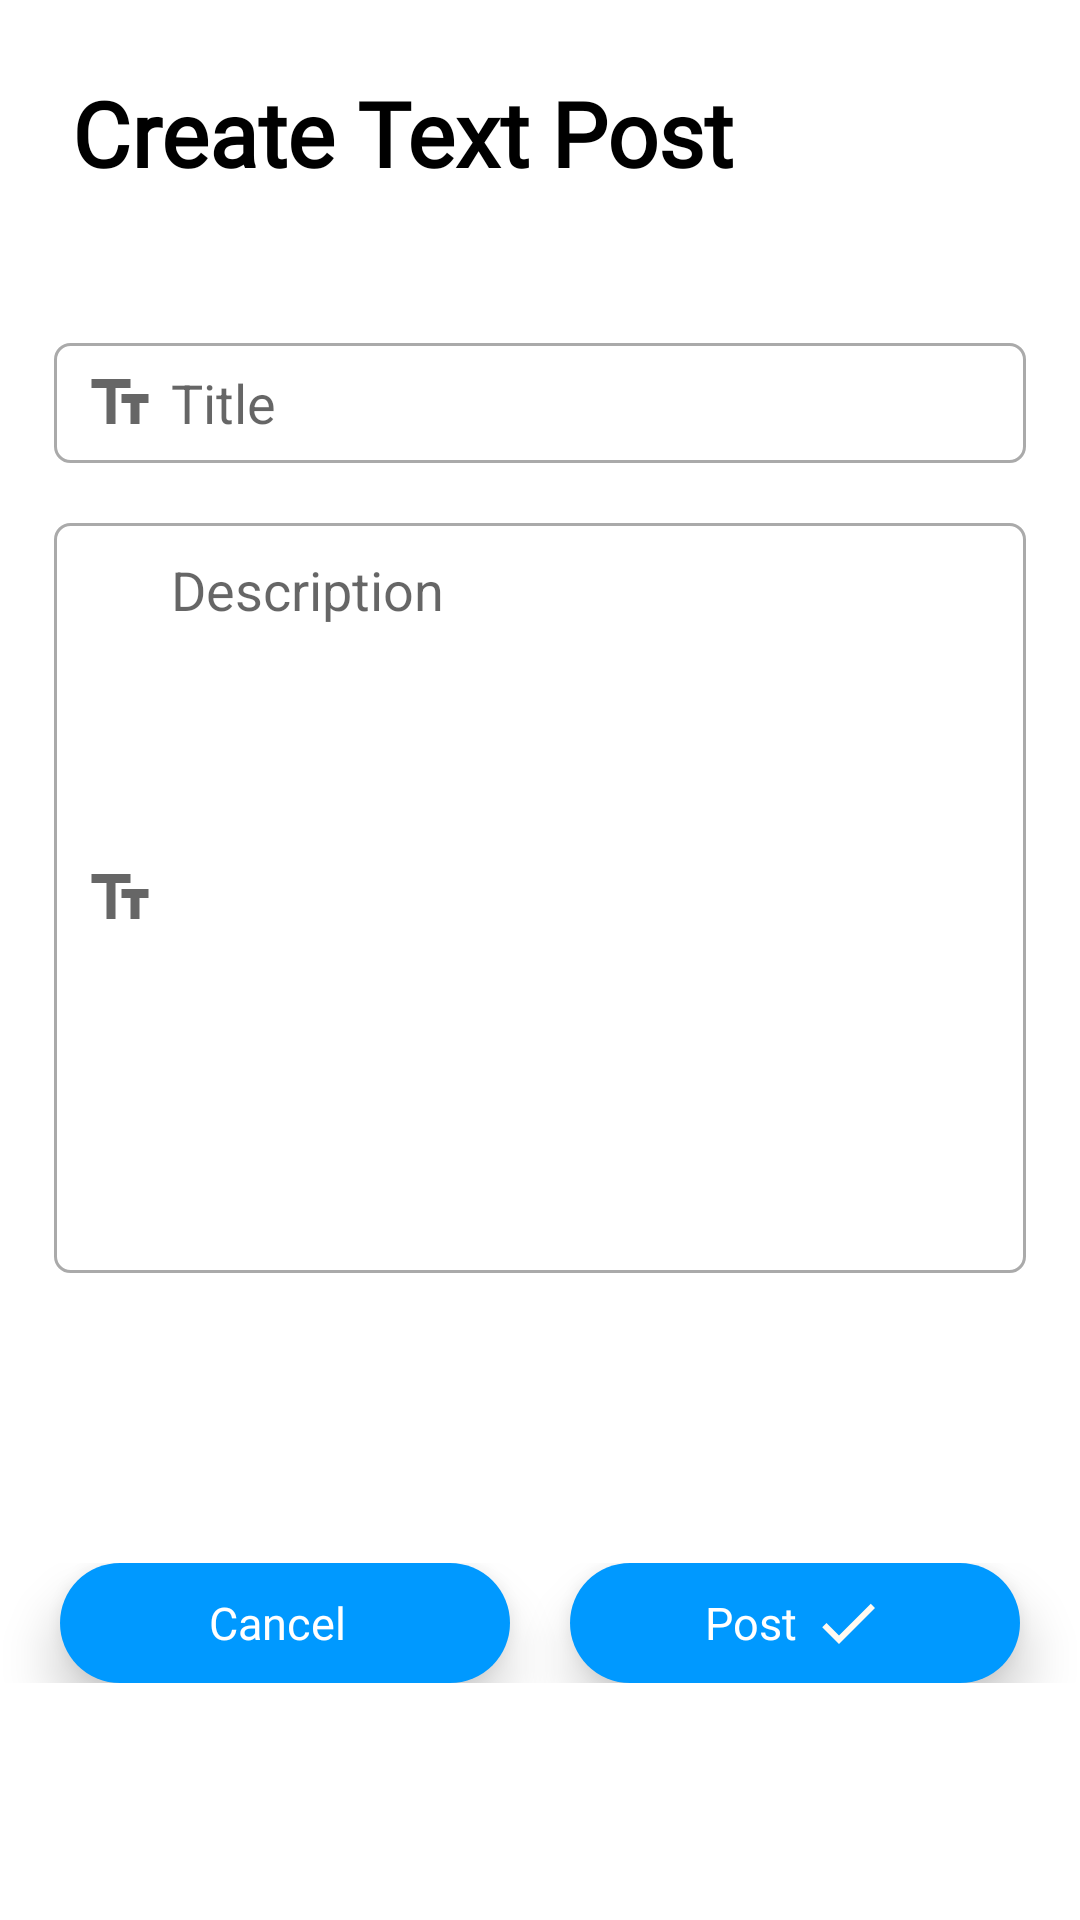

Icons on this 1080w x 1920h Android screen, each with its box as bbox(x1, y1, x2, y2):
check: bbox(822, 1604, 875, 1644)
